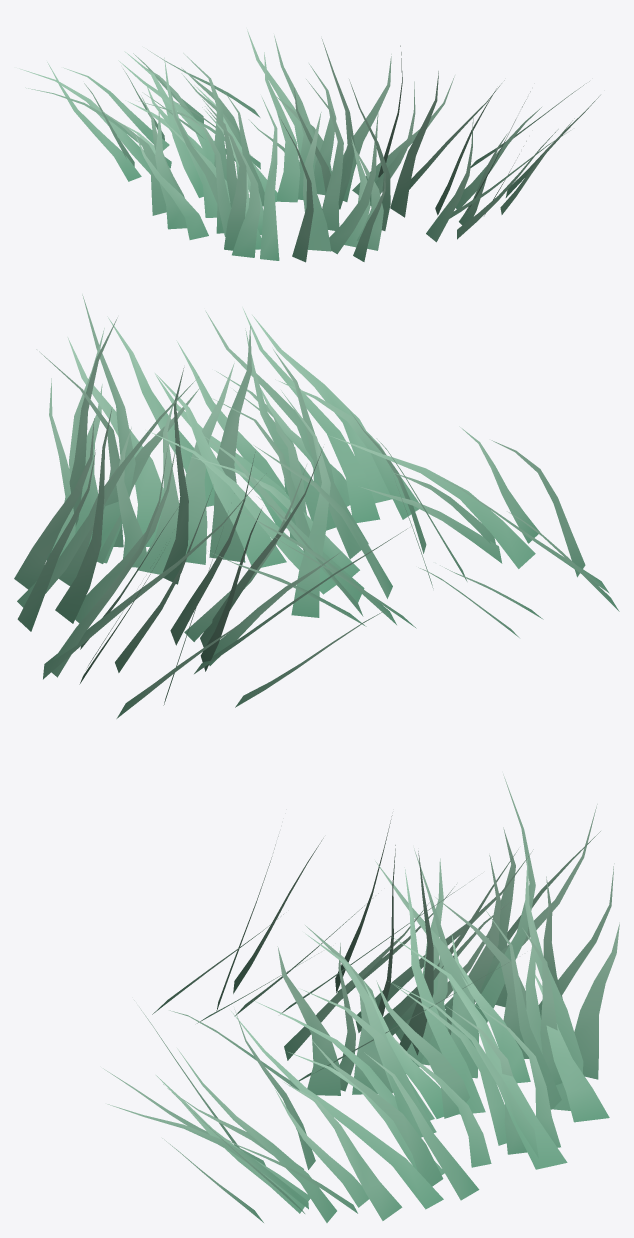
File: mesh-plant-011-emerald-tuft_LOD1.glb
The picture shows the model from 3 angles, top to bottom: view 1: azimuth 30°, elevation 25°; view 2: azimuth 150°, elevation 25°; view 3: azimuth 270°, elevation 25°; orthographic projection. The views are drawn at different scales.
Visible parts, largest first — view 1: geometry_0; view 2: geometry_0; view 3: geometry_0.
Part boxes in pixels (<box>): geometry_0: <box>19,29,600,262</box>; geometry_0: <box>14,294,619,718</box>; geometry_0: <box>103,774,619,1222</box>.
Bounding box in the file's own units: 1.49 × 0.3902 × 1.14.
